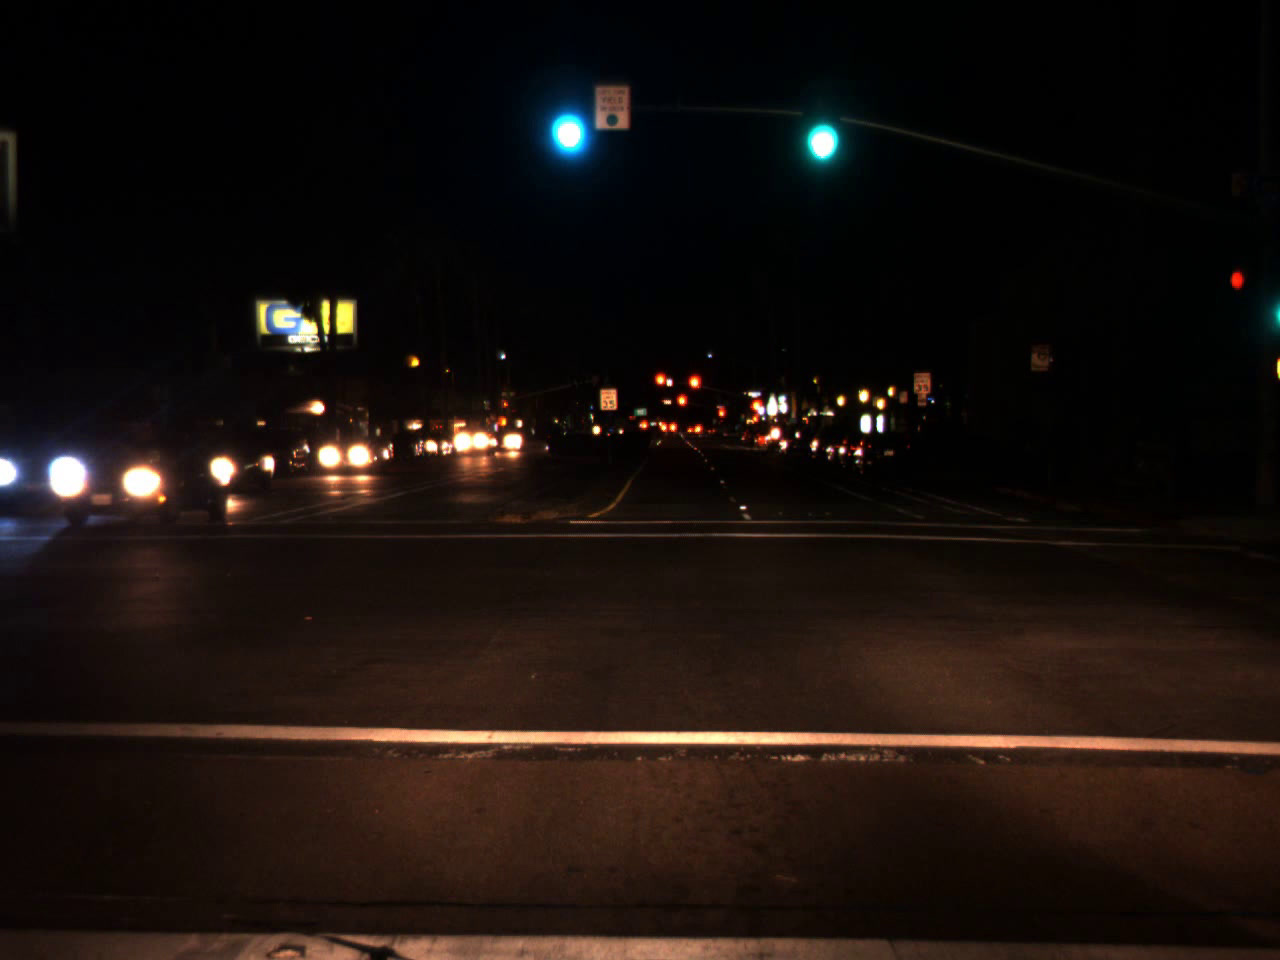go: (543, 74, 588, 161), (796, 85, 841, 172)
stop: (686, 373, 702, 405), (748, 397, 764, 429), (653, 371, 668, 398), (675, 392, 688, 421), (717, 406, 726, 427), (503, 398, 509, 419)
